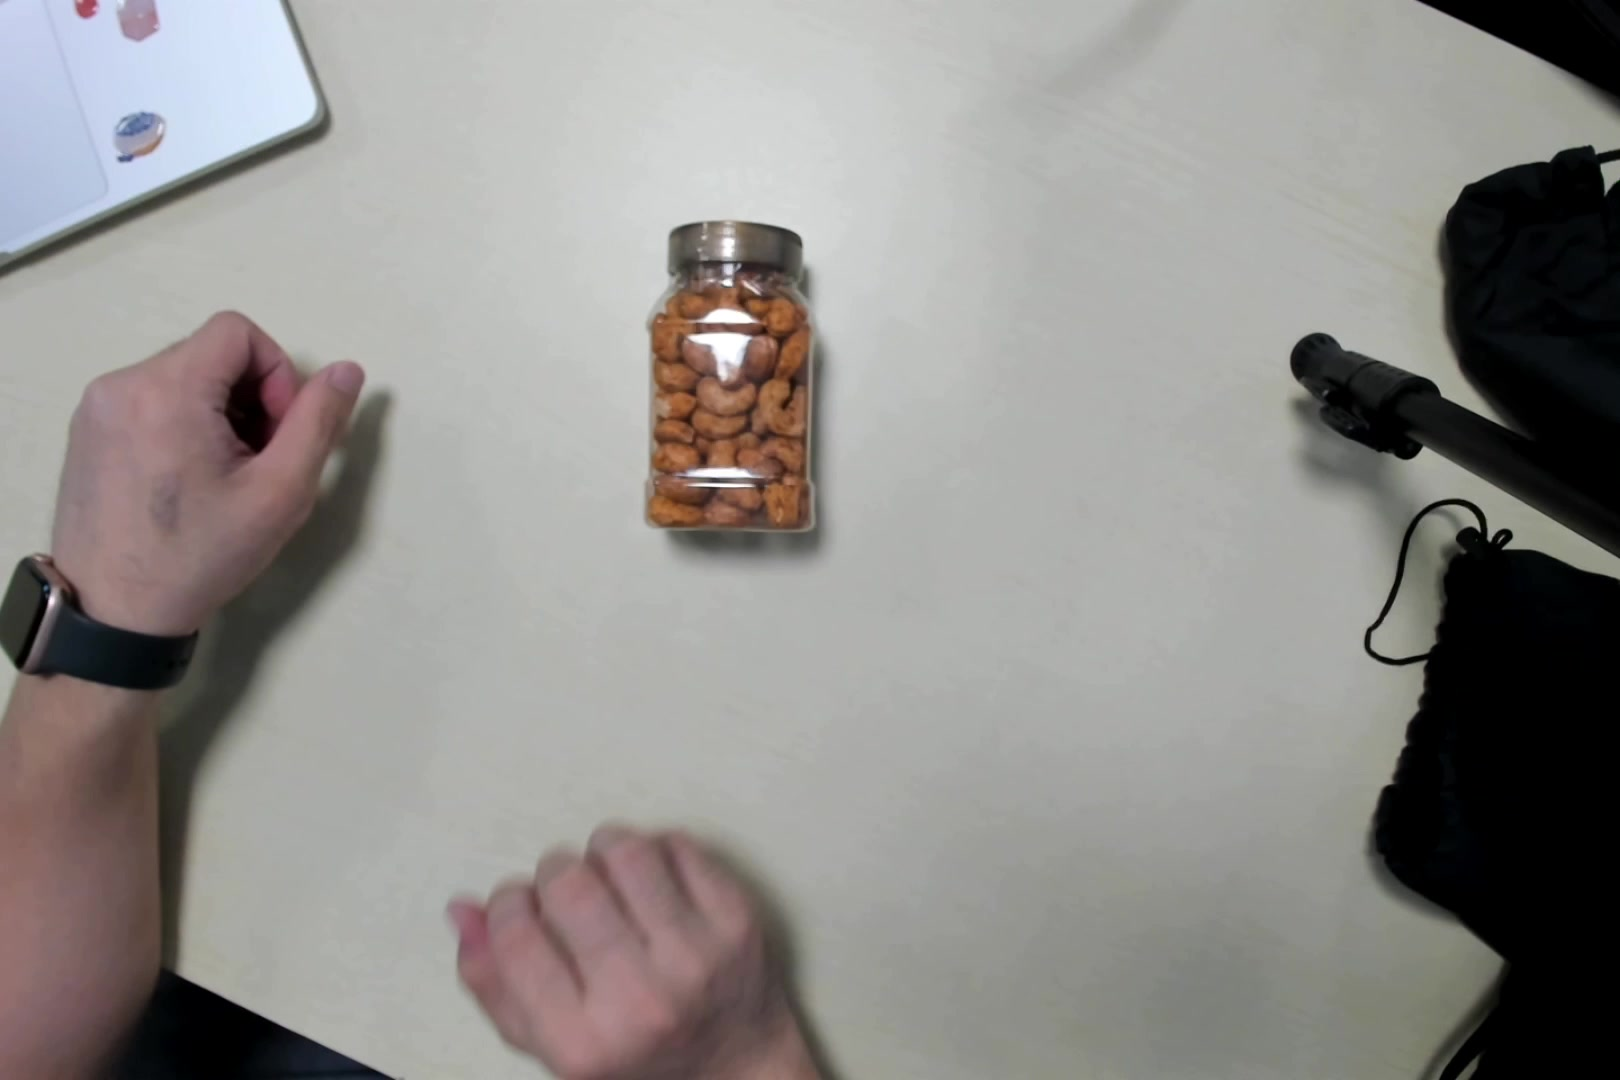Nuts_200-299g_NonHalal_NonHealthy: (635, 222, 826, 542)
